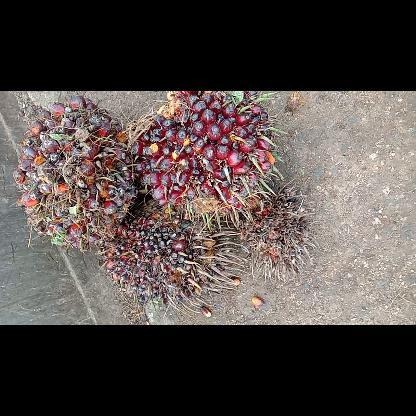TBS abnormal: (98, 196, 252, 324), (235, 180, 319, 283)
TBS masak: (128, 91, 288, 235), (12, 95, 140, 251)
